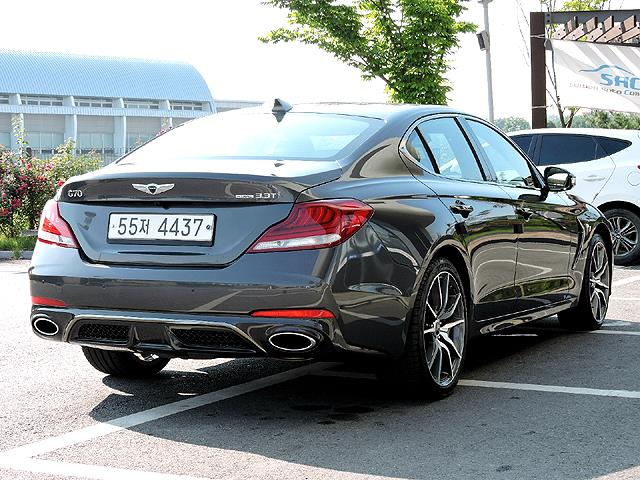plate: (109, 214, 214, 241)
